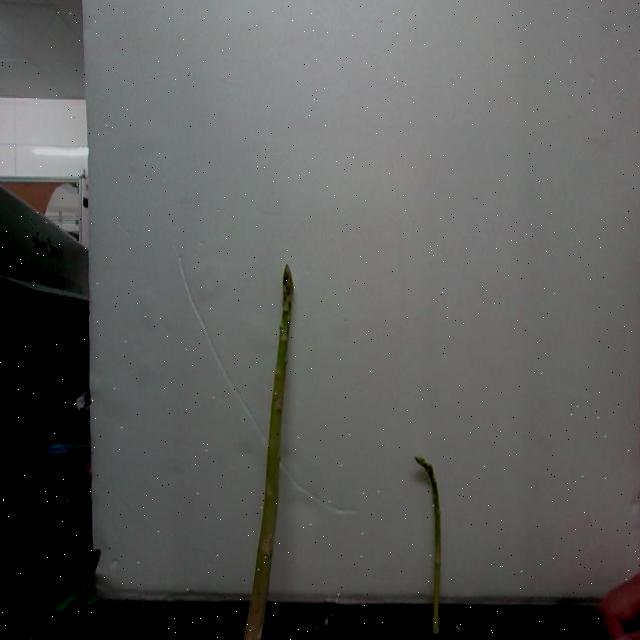aspargus: (240, 267, 292, 640)
